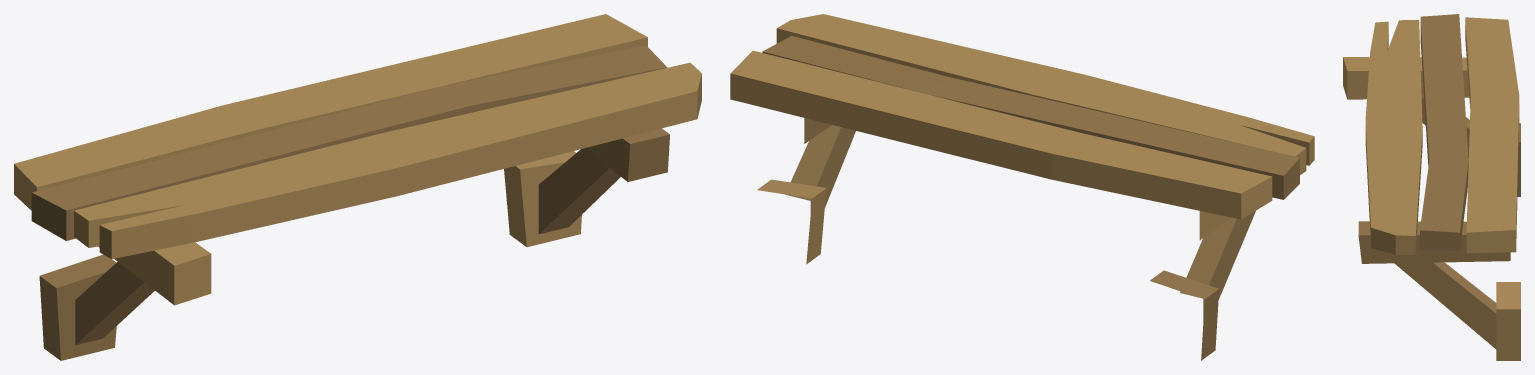
Rendered from Wooden_Shelf.gltf.
3 renders of one model, left to right at view 1: azimuth 30°, elevation 25°; view 2: azimuth 150°, elevation 25°; view 3: azimuth 270°, elevation 25°, orthographic. The views are drawn at different scales.
Visible parts, largest first — view 1: Wooden_Shelf2; view 2: Wooden_Shelf2; view 3: Wooden_Shelf2.
Boxes of the visible parts, x1=… form: Wooden_Shelf2: x1=14, y1=14, x2=701, y2=360; Wooden_Shelf2: x1=730, y1=14, x2=1314, y2=360; Wooden_Shelf2: x1=1343, y1=14, x2=1520, y2=360.
Bounding box in the file's own units: 0.4435 × 0.1352 × 0.1508.
Materials: 1 (1 with a texture image).
